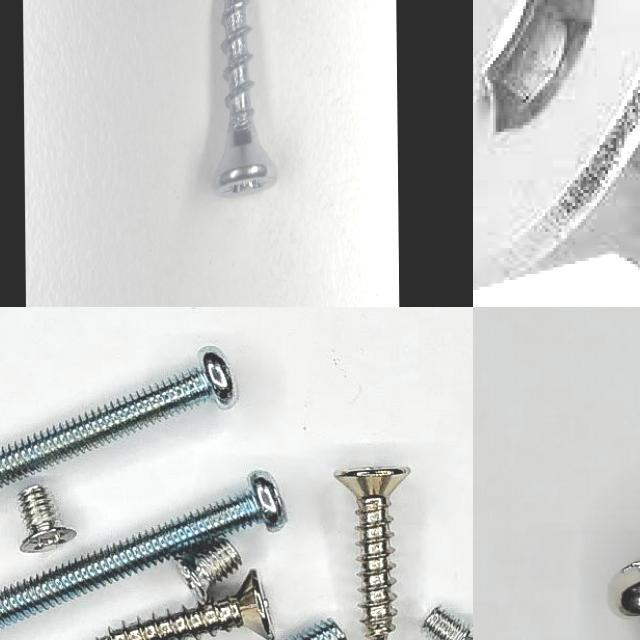Screw: (473, 0, 640, 293), (0, 472, 288, 628), (0, 347, 237, 486), (335, 468, 410, 640), (213, 0, 278, 196), (100, 571, 275, 640), (174, 537, 242, 604), (19, 484, 77, 552), (424, 607, 473, 640)
